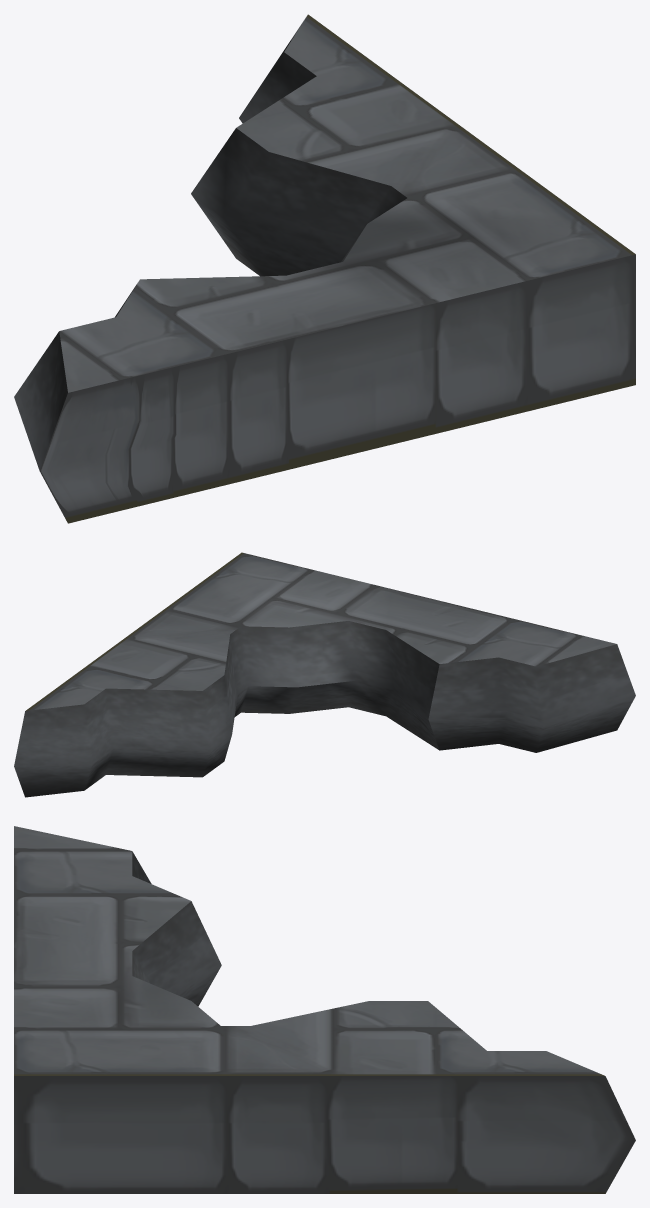
File: FloorBrokenCorner.001.fbx
3 views of the same model, one above another, from view 1: azimuth 30°, elevation 25°; view 2: azimuth 150°, elevation 25°; view 3: azimuth 270°, elevation 25° (orthographic). The views are drawn at different scales.
Visible parts, largest first — view 1: FloorBrokenCorner.001; view 2: FloorBrokenCorner.001; view 3: FloorBrokenCorner.001.
Boxes of the visible parts, x1,y1,x2,y2 form: FloorBrokenCorner.001: [14, 14, 635, 523]; FloorBrokenCorner.001: [14, 552, 635, 797]; FloorBrokenCorner.001: [14, 826, 635, 1193].
Bounding box in the file's own units: 262 × 55 × 263.
